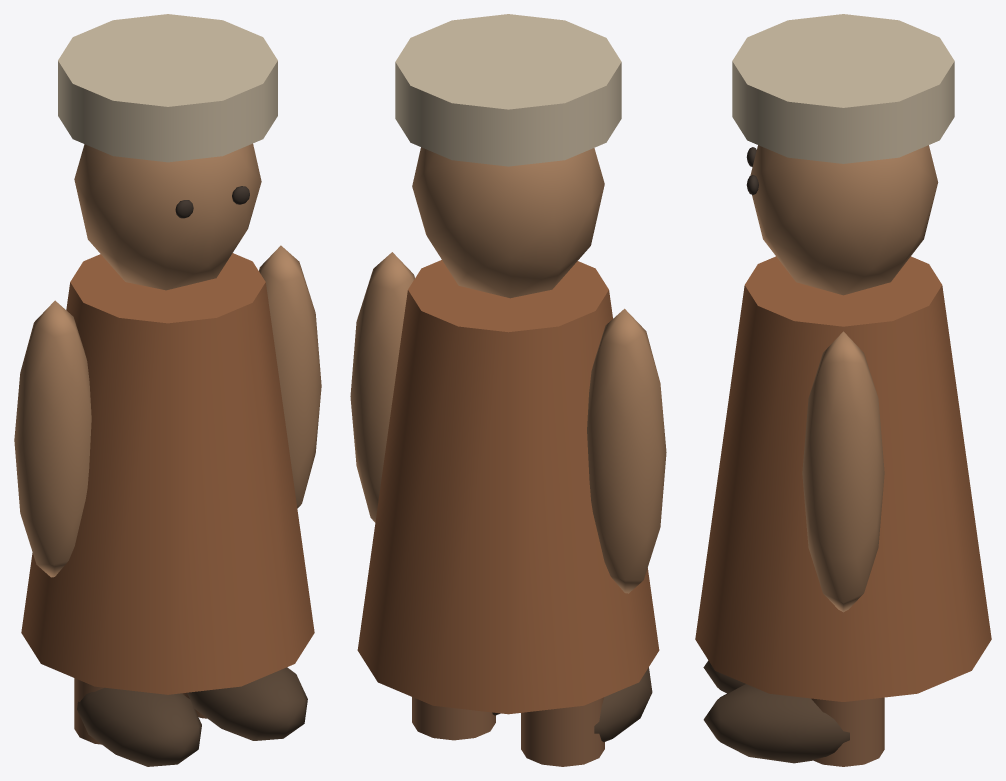
Rendered from resident-lipit.glb.
The picture shows the model from 3 angles, left to right: view 1: azimuth 30°, elevation 25°; view 2: azimuth 150°, elevation 25°; view 3: azimuth 270°, elevation 25°; orthographic projection. The views are drawn at different scales.
Parts seen in each view (by area): view 1: resident-lipit; view 2: resident-lipit; view 3: resident-lipit.
Boxes of the visible parts, box(x1,y1,x2,y2) form: resident-lipit: box(14, 14, 321, 766); resident-lipit: box(350, 14, 666, 766); resident-lipit: box(695, 14, 991, 766).
Size of the model in its own units: 0.6048 by 1.29 by 0.5184.
